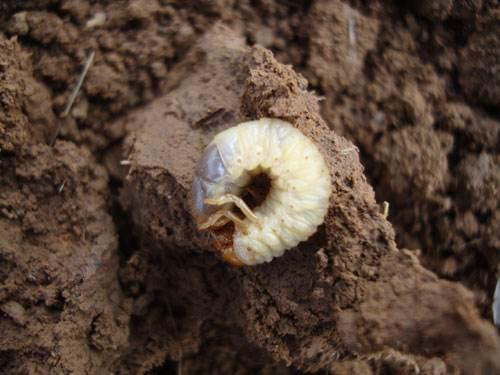grub: (179, 115, 333, 266)
